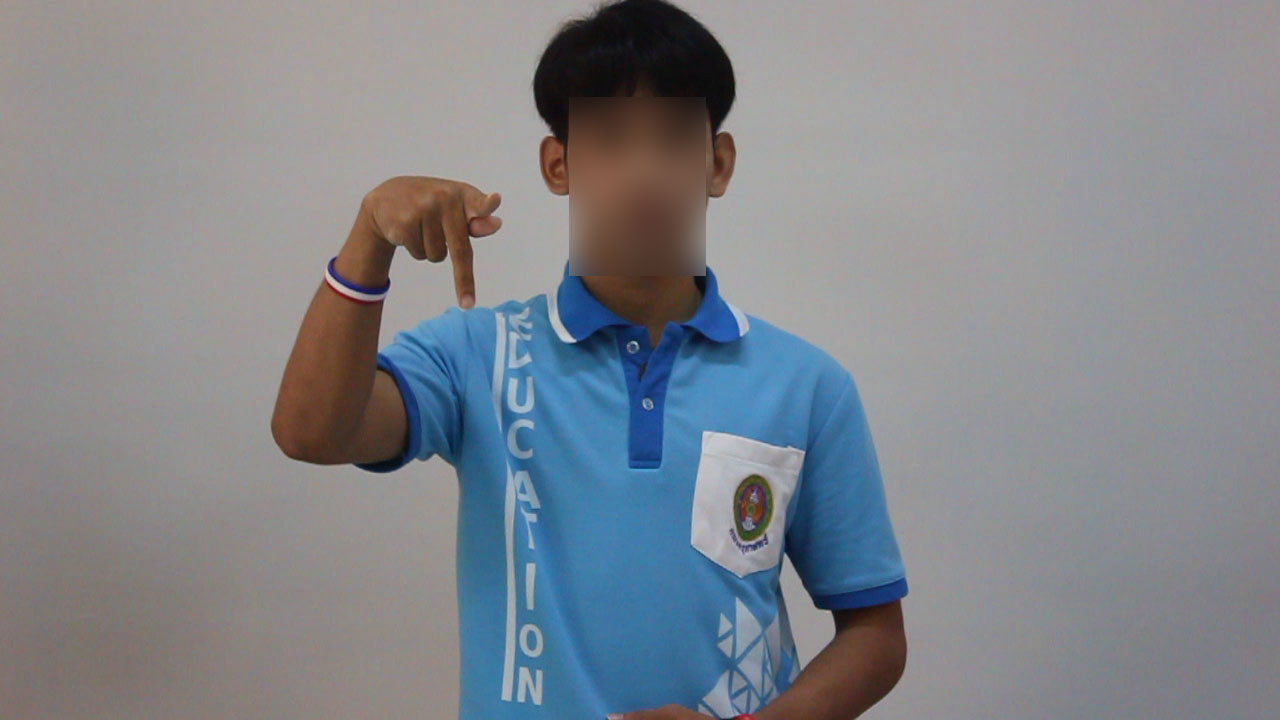por: (358, 146, 518, 321)
